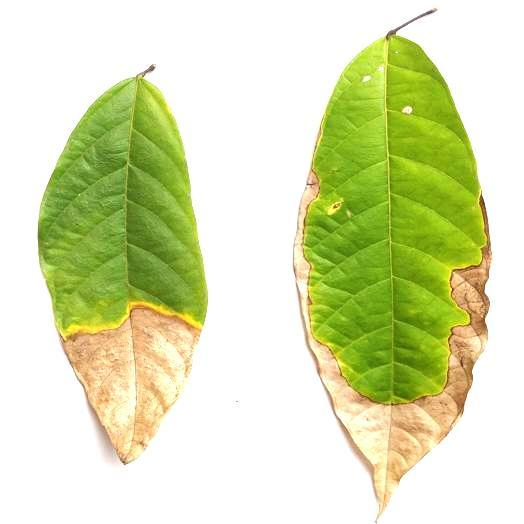Potassium: (294, 15, 490, 511), (39, 67, 207, 463)
